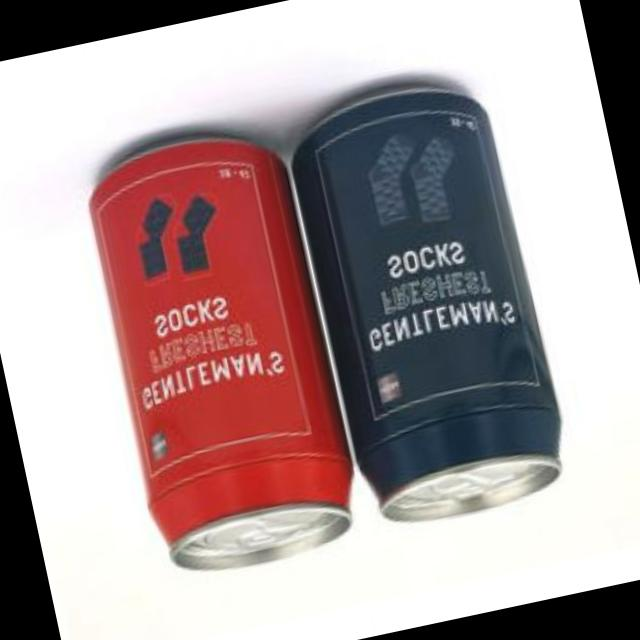metal: (292, 92, 558, 524), (88, 142, 350, 572)
